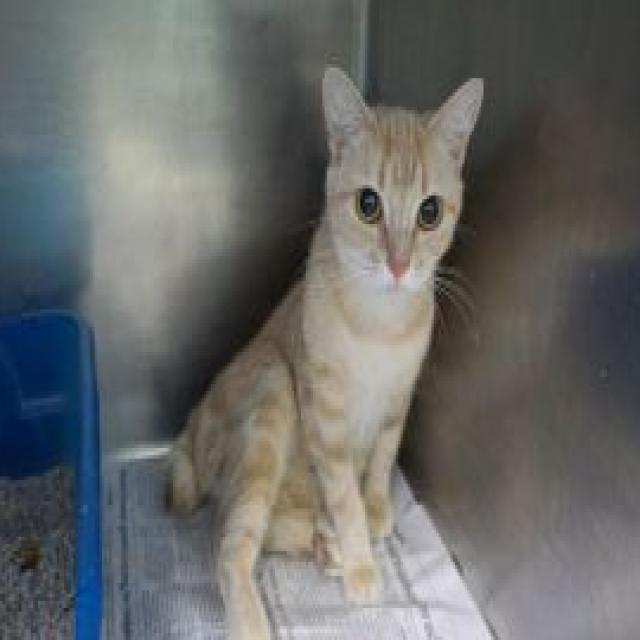American Bobtail: (159, 57, 488, 640)
